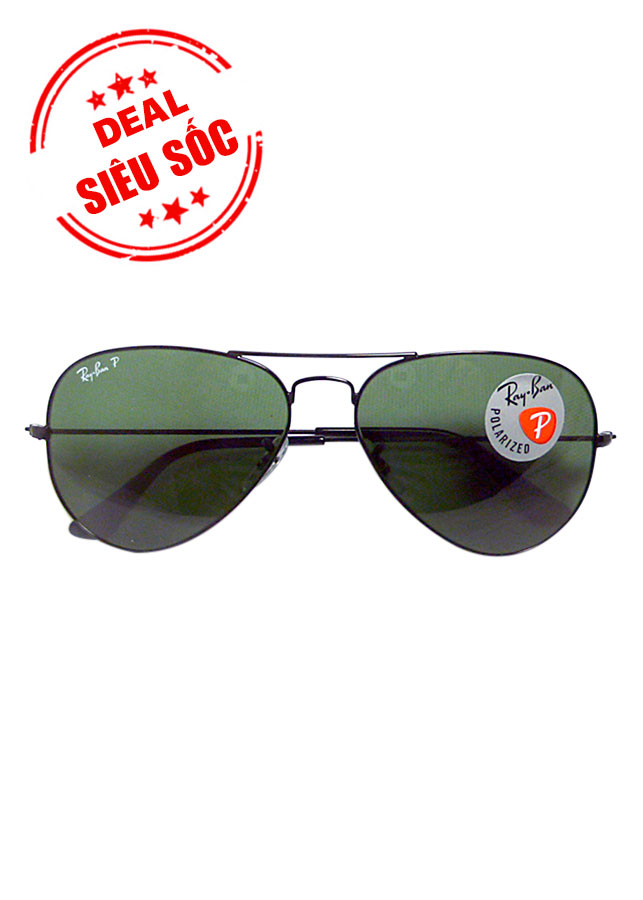Rayban: (494, 372, 558, 411), (70, 355, 112, 385)
